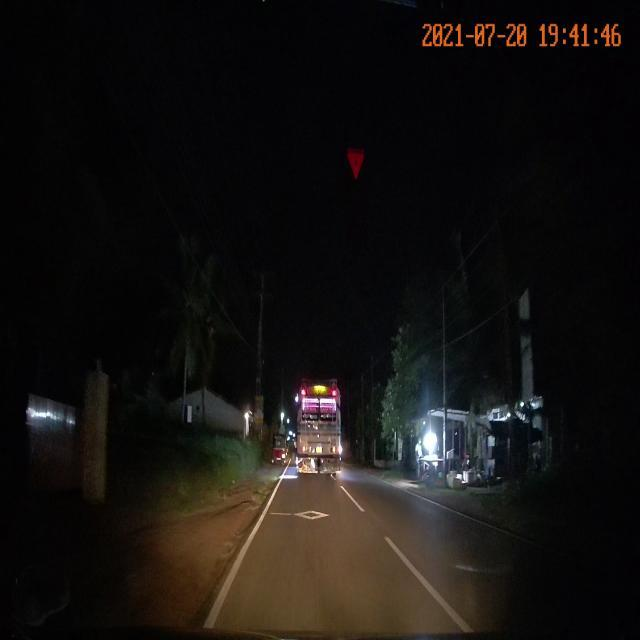diamond: (252, 505, 384, 526)
